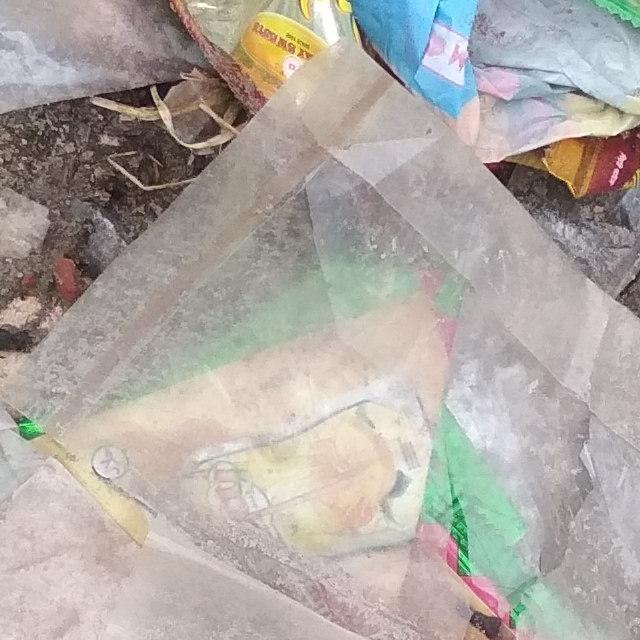plastic: (0, 35, 640, 640), (123, 0, 640, 342)
